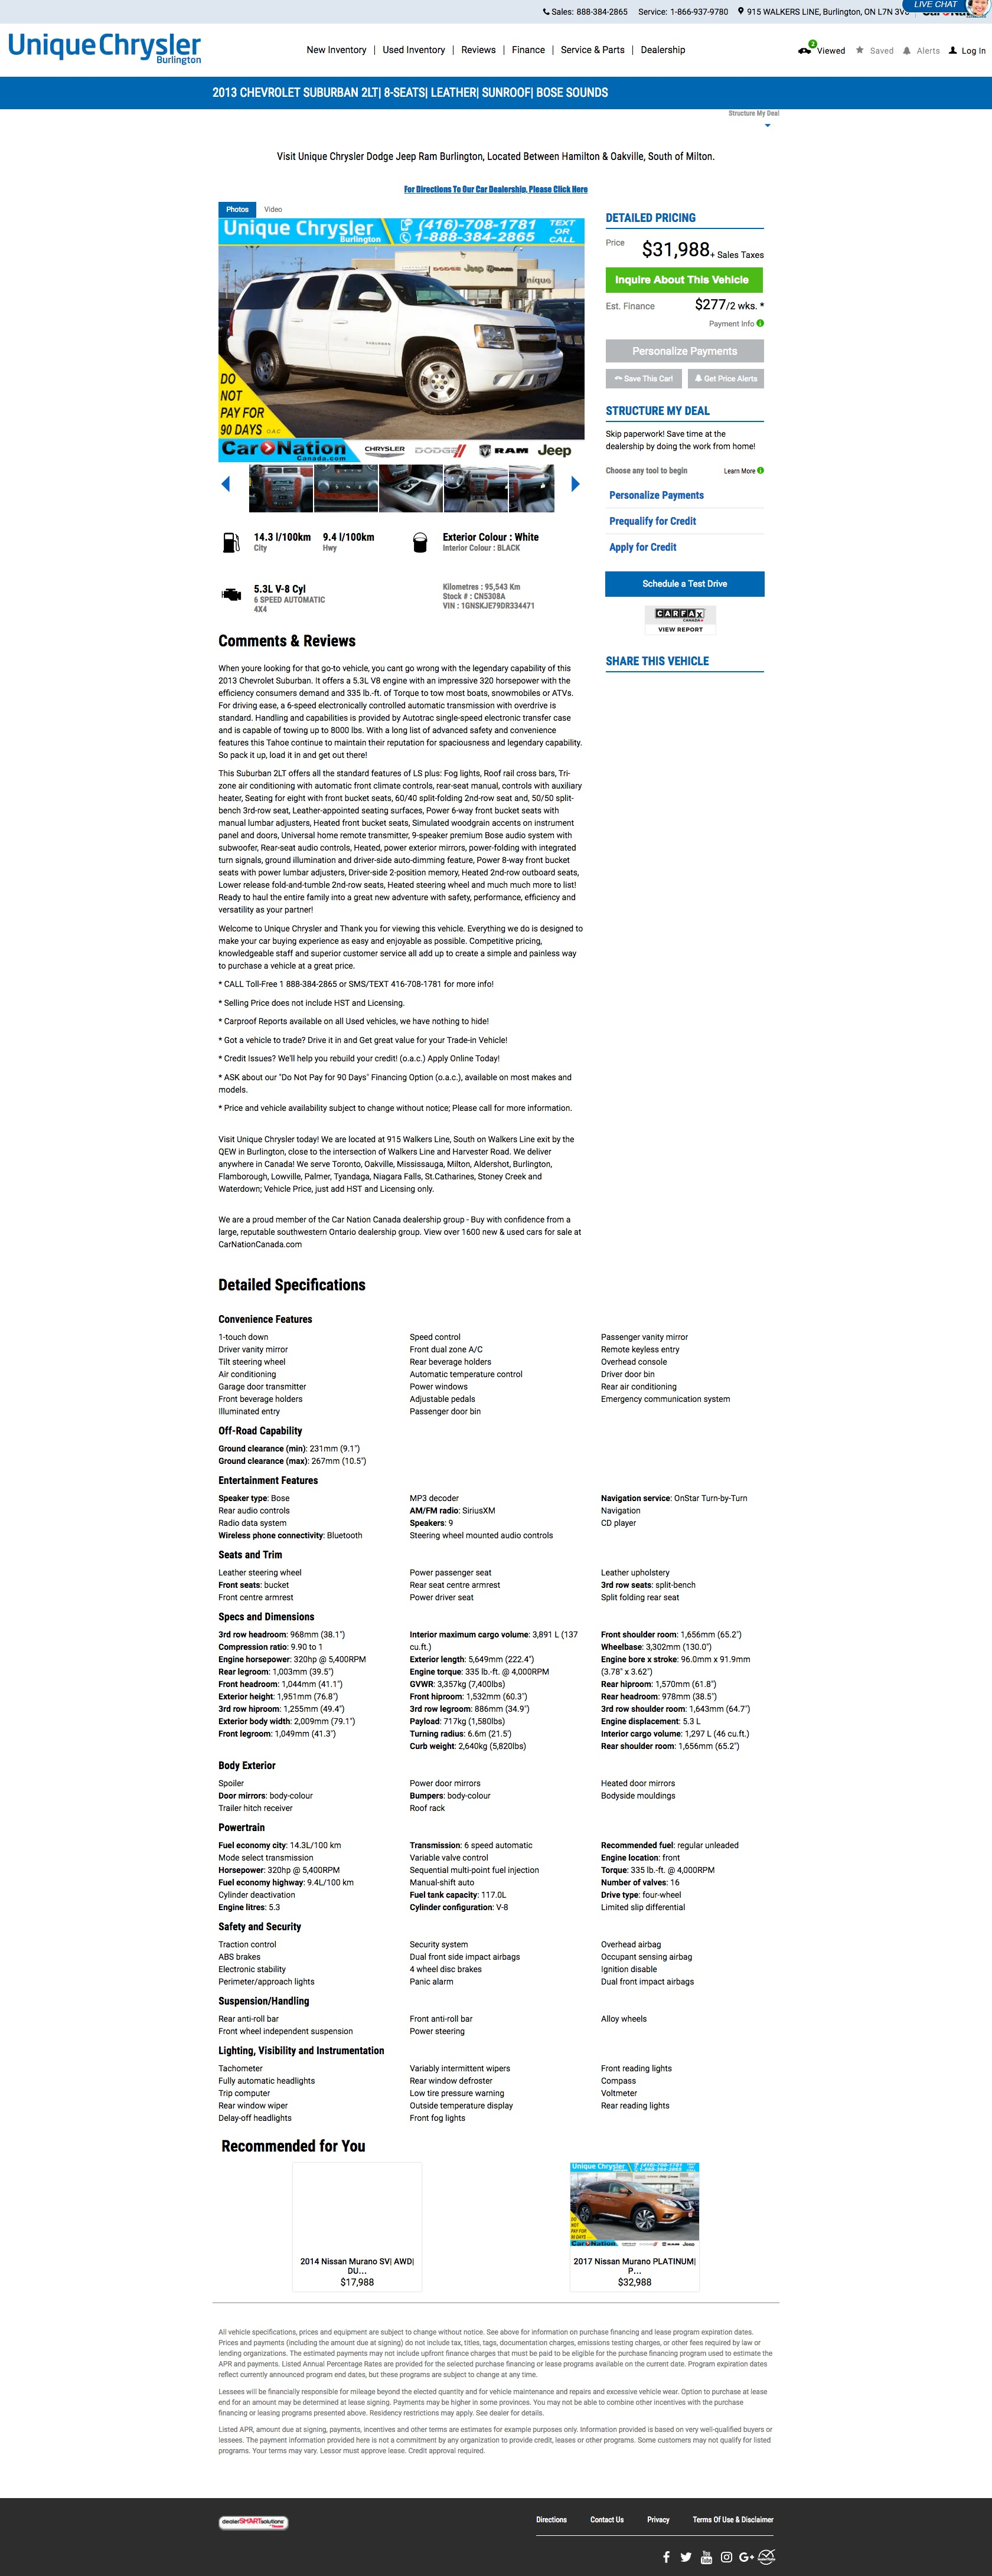car: (572, 476, 581, 493)
